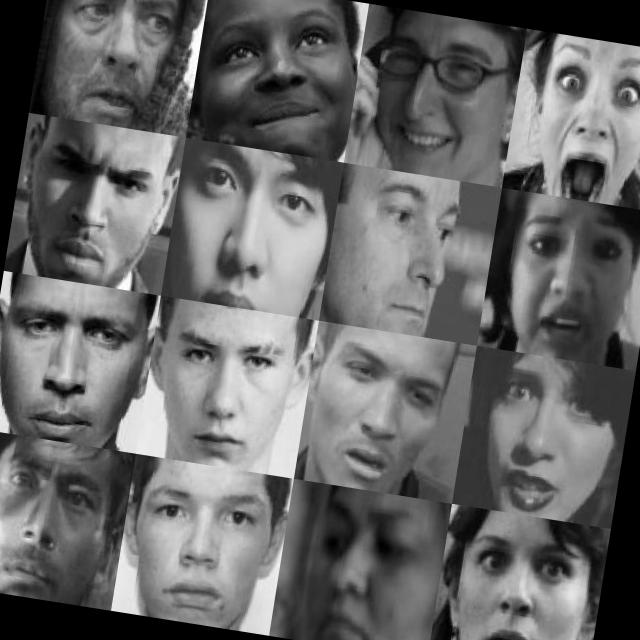angry: (19, 121, 164, 288), (158, 313, 292, 467)
fear: (471, 351, 617, 524), (501, 196, 640, 359), (529, 35, 640, 207), (50, 0, 187, 129), (0, 443, 112, 600), (448, 518, 584, 640)
happy: (196, 0, 353, 151), (362, 19, 501, 176)
neutral: (172, 140, 335, 316), (352, 173, 469, 334)
sad: (128, 468, 274, 632), (0, 295, 141, 453), (314, 331, 449, 492), (294, 489, 433, 640)
